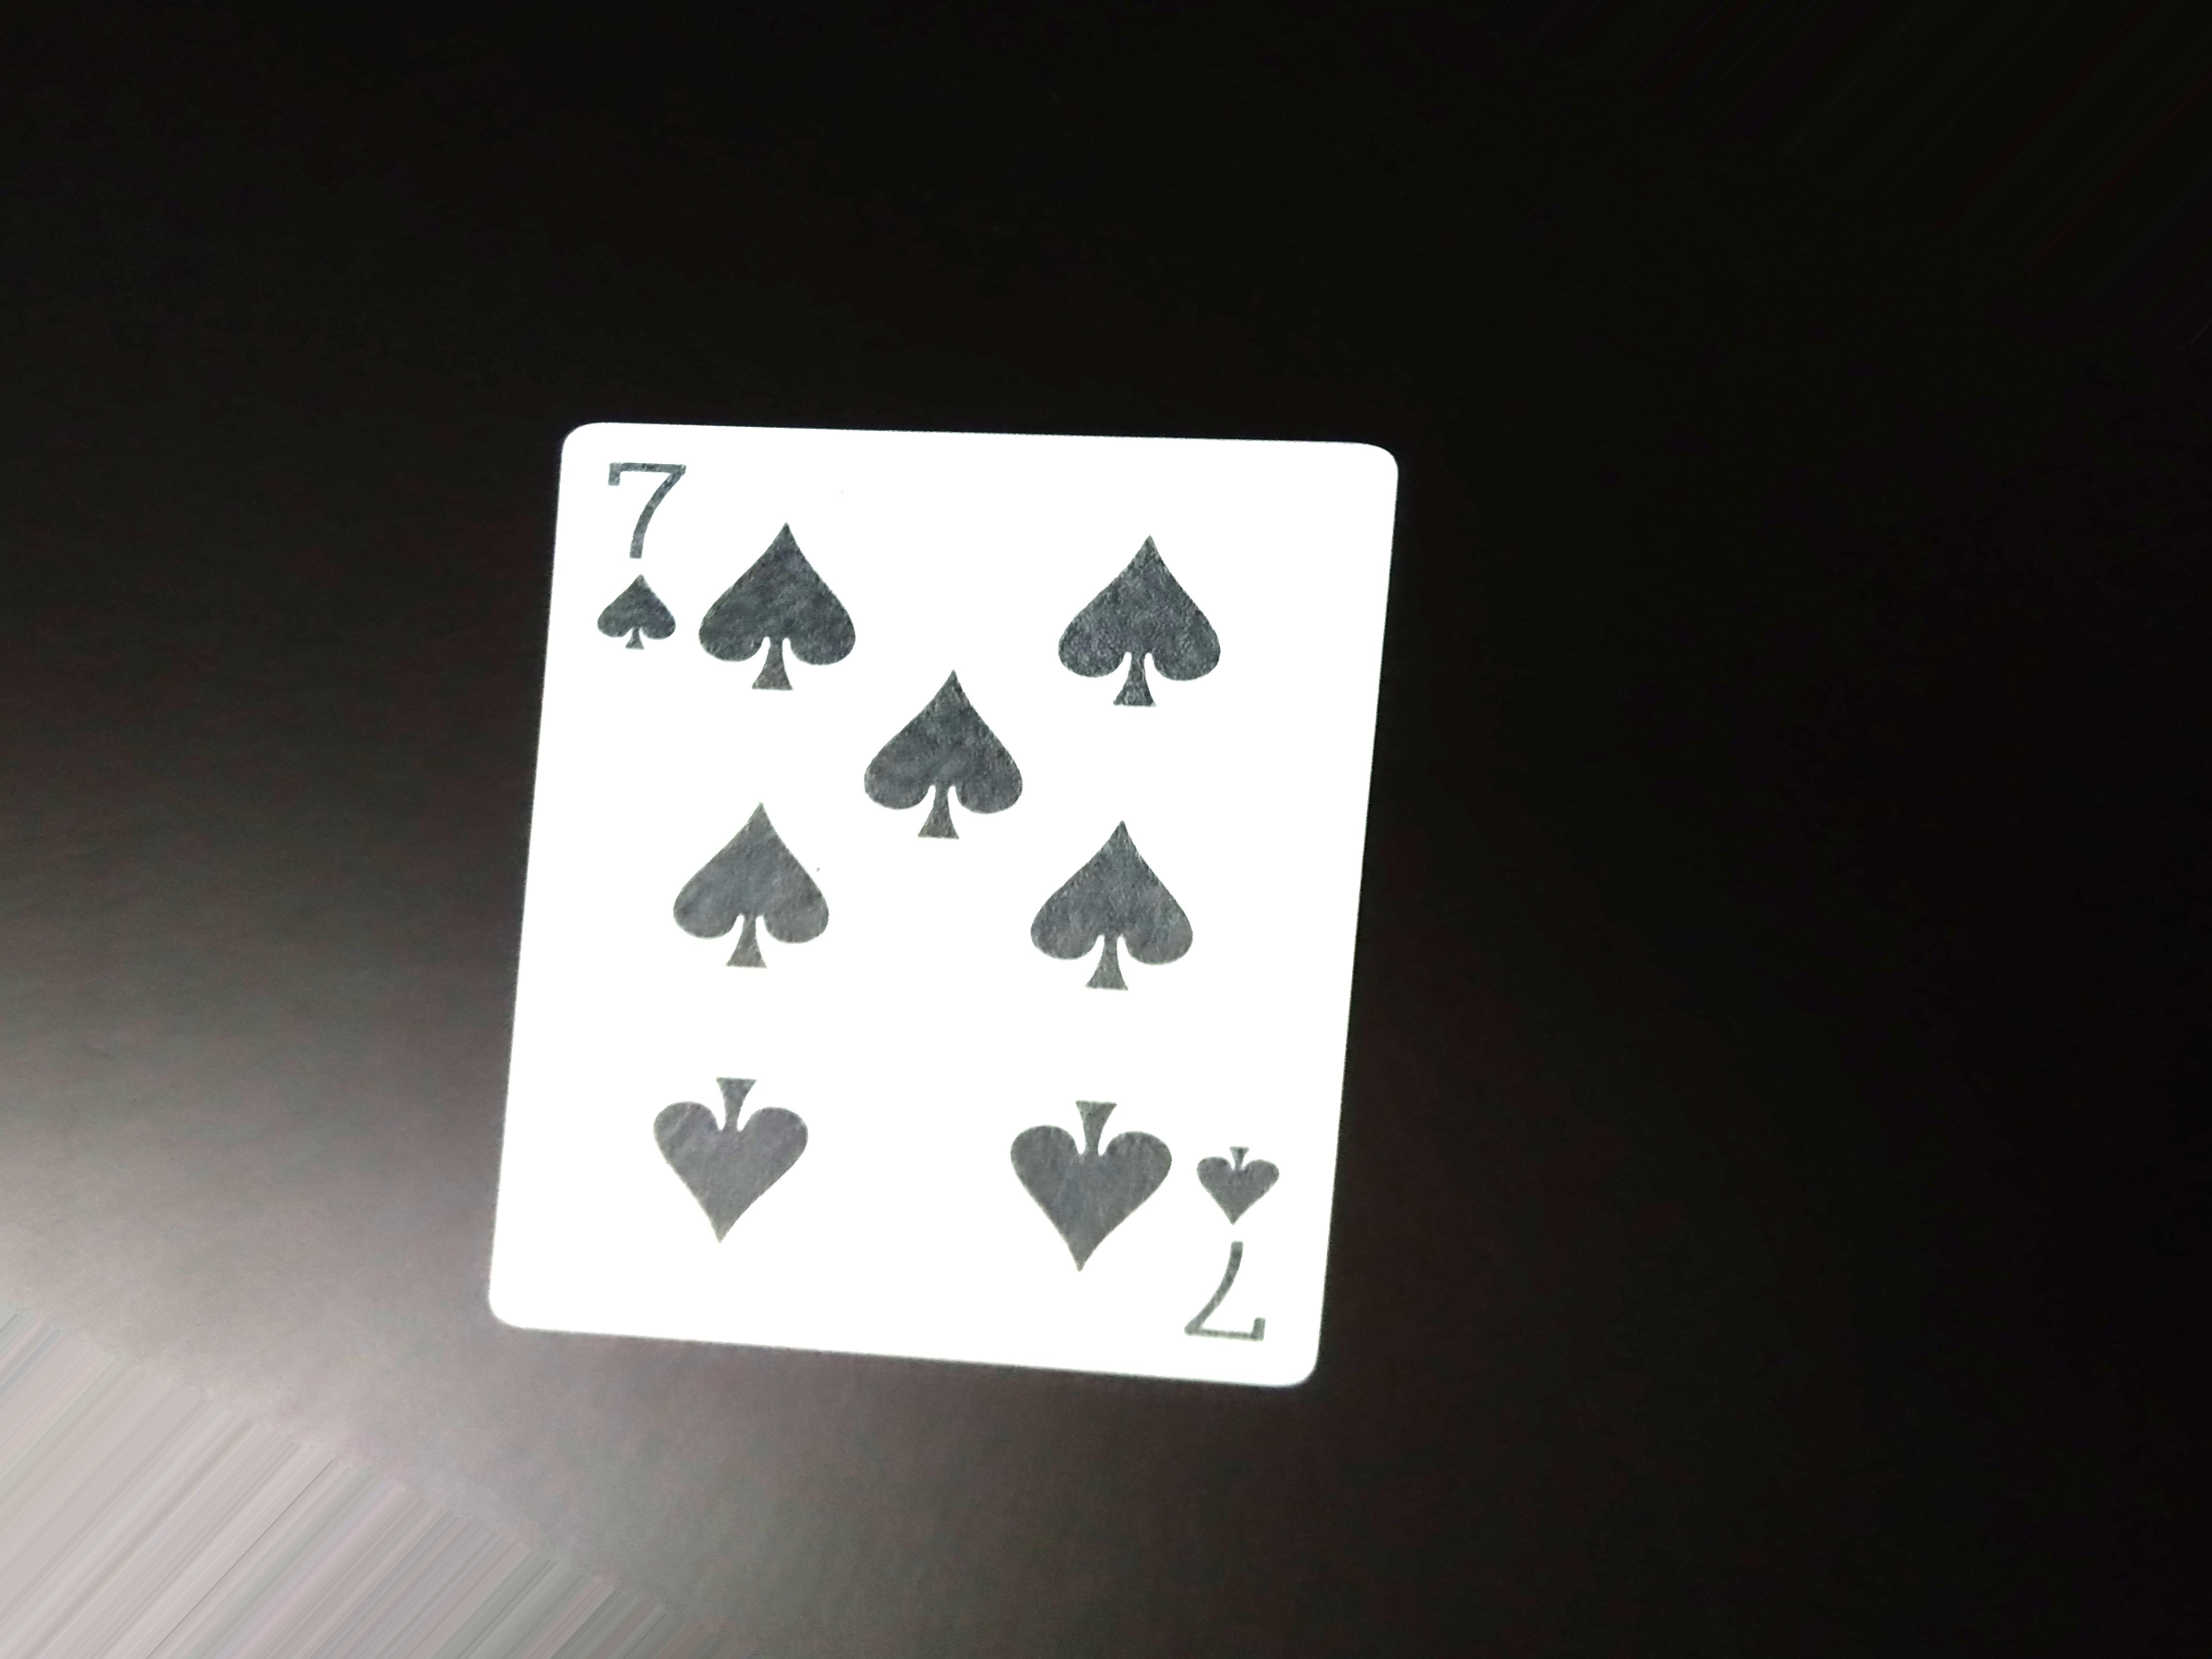7S: (582, 413, 711, 688)
